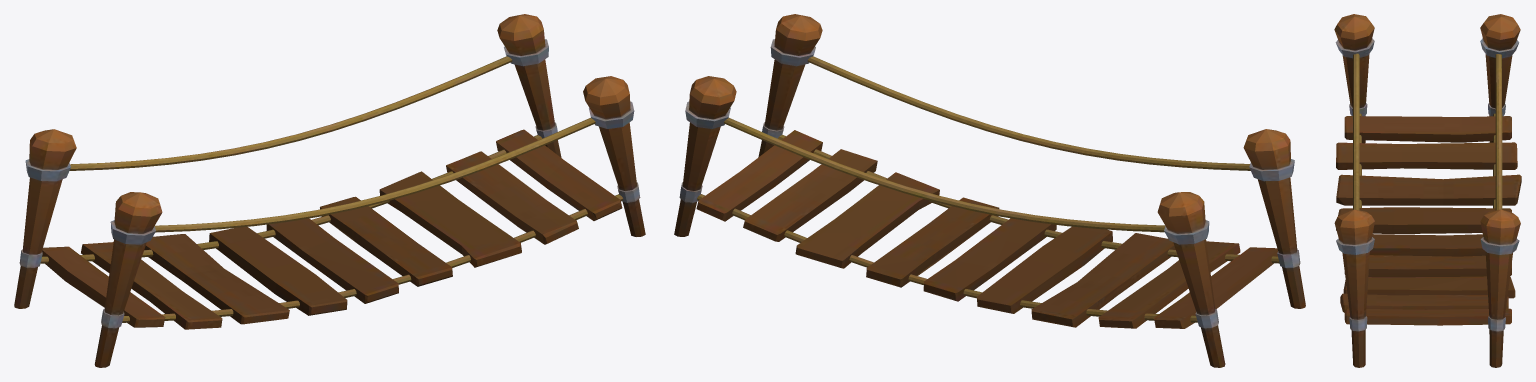
The model's file is rope_bridge.glb.
3 views of the same model, side by side, from view 1: azimuth 30°, elevation 25°; view 2: azimuth 150°, elevation 25°; view 3: azimuth 270°, elevation 25° (orthographic). The views are drawn at different scales.
Parts seen in each view (by area): view 1: rope_bridge; view 2: rope_bridge; view 3: rope_bridge.
Boxes of the visible parts, <box> form: rope_bridge: <box>14,14,645,367</box>; rope_bridge: <box>674,14,1305,367</box>; rope_bridge: <box>1334,14,1521,367</box>.
Size of the model in its own units: 6.48 by 1.87 by 2.25.
1 material, 1 textured.
